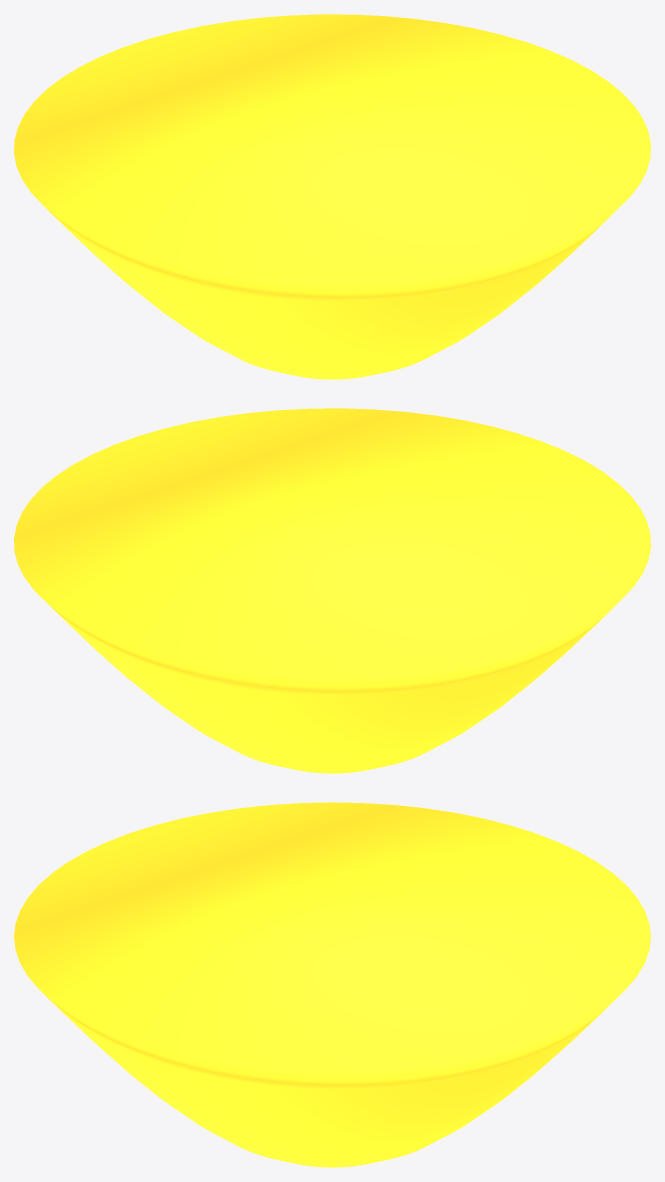
Rendered from MoltenMetal.fbx.
3 renders of one model, top to bottom at view 1: azimuth 30°, elevation 25°; view 2: azimuth 150°, elevation 25°; view 3: azimuth 270°, elevation 25°, orthographic.
Parts seen in each view (by area): view 1: MoltenMetal; view 2: MoltenMetal; view 3: MoltenMetal.
Part boxes in pixels (bbox=[...]): MoltenMetal: bbox=[14, 14, 650, 379]; MoltenMetal: bbox=[14, 408, 650, 773]; MoltenMetal: bbox=[14, 802, 650, 1167].
Bounding box in the file's own units: 0.1934 × 0.0692 × 0.1934.
